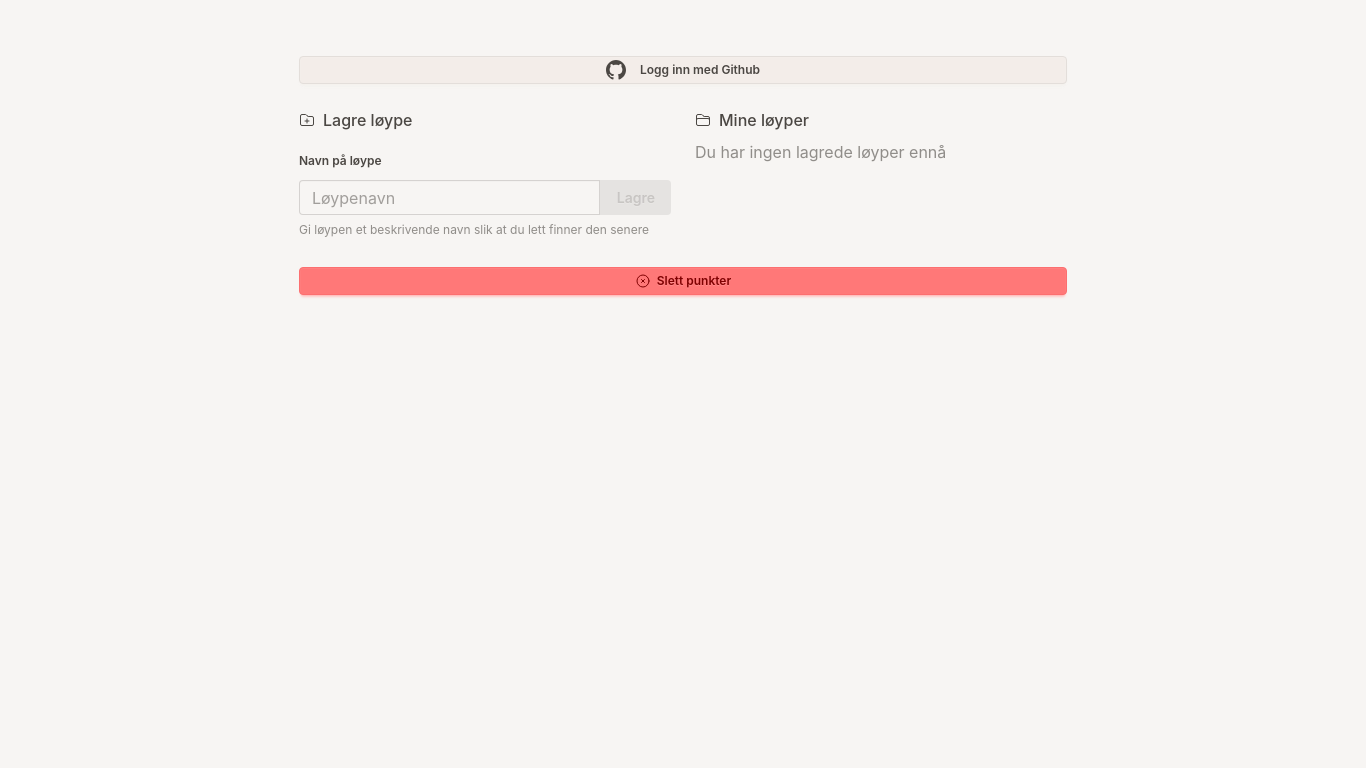
Menu › saves the route, shows success, and keeps the menu open
In the field with placeholder "Løypenavn": (449, 198) [299,180,600,215], type "Min løype"
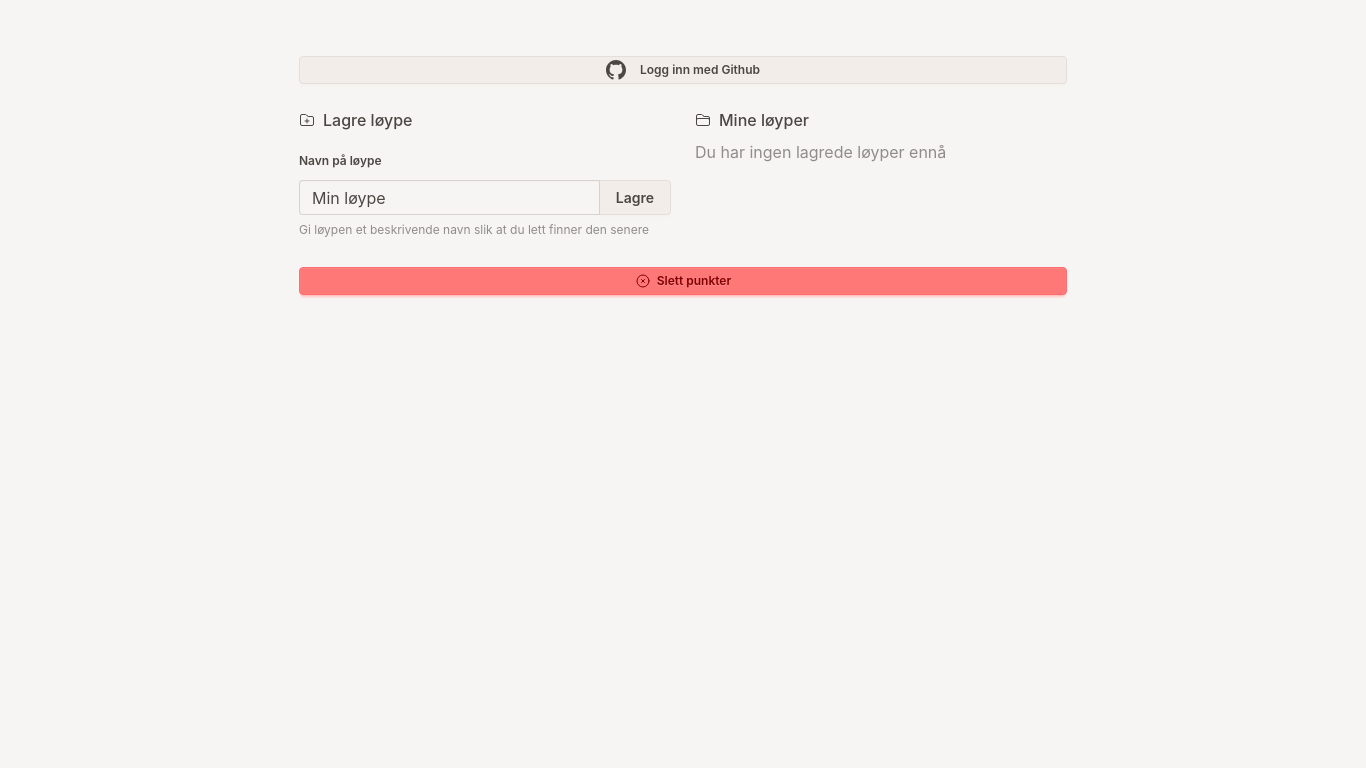
Click the button "Lagre": (635, 198) [599,180,671,215]
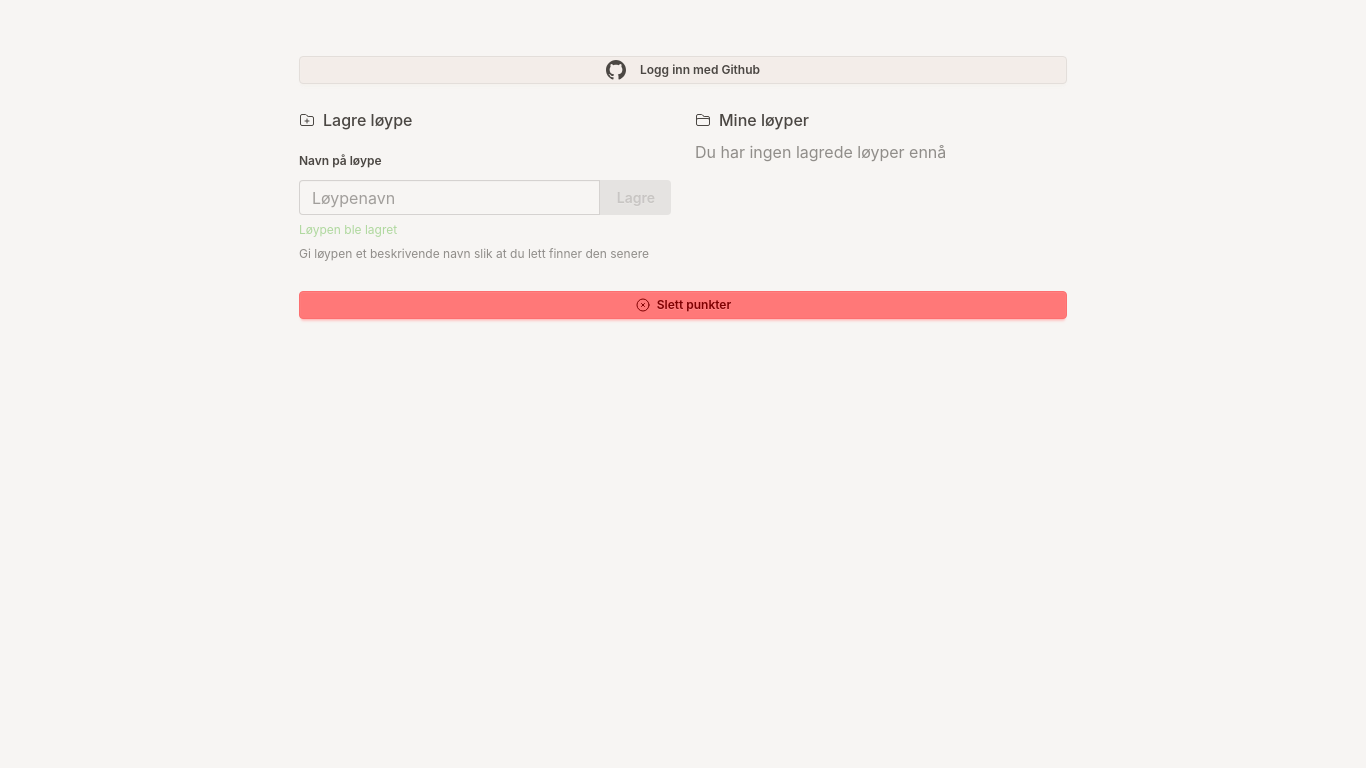
Expected: the text "Løypen ble lagret" is shown, [299,222,397,237]
